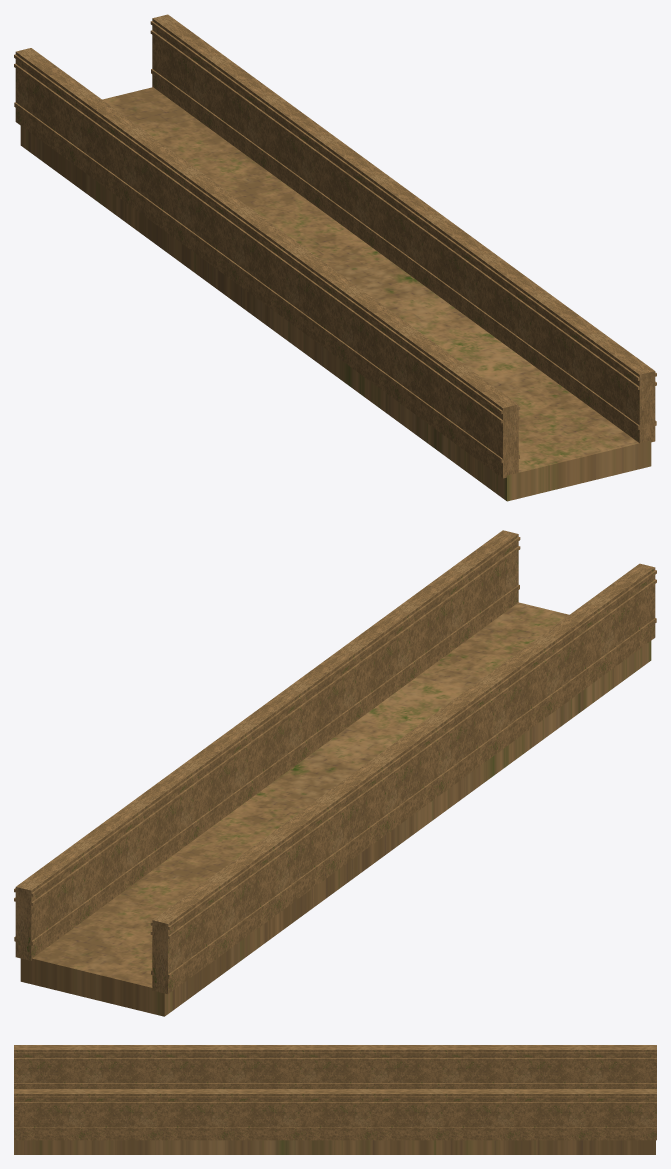
File: MDL_E_LVL_Temple_Tunnel_01.fbx
3 renders of one model, top to bottom at view 1: azimuth 30°, elevation 25°; view 2: azimuth 150°, elevation 25°; view 3: azimuth 270°, elevation 25°, orthographic. The views are drawn at different scales.
Parts seen in each view (by area): view 1: Cube.008, Plane.052; view 2: Cube.008, Plane.052; view 3: Cube.008, Plane.052.
Boxes of the visible parts, x1,y1,x2,y2 form: Cube.008: [14, 14, 656, 478]; Plane.052: [20, 87, 651, 501]; Cube.008: [14, 530, 656, 994]; Plane.052: [20, 602, 651, 1016]; Cube.008: [14, 1045, 656, 1140]; Plane.052: [14, 1140, 655, 1154].
Size of the model in its own units: 631 by 365 by 3419.
